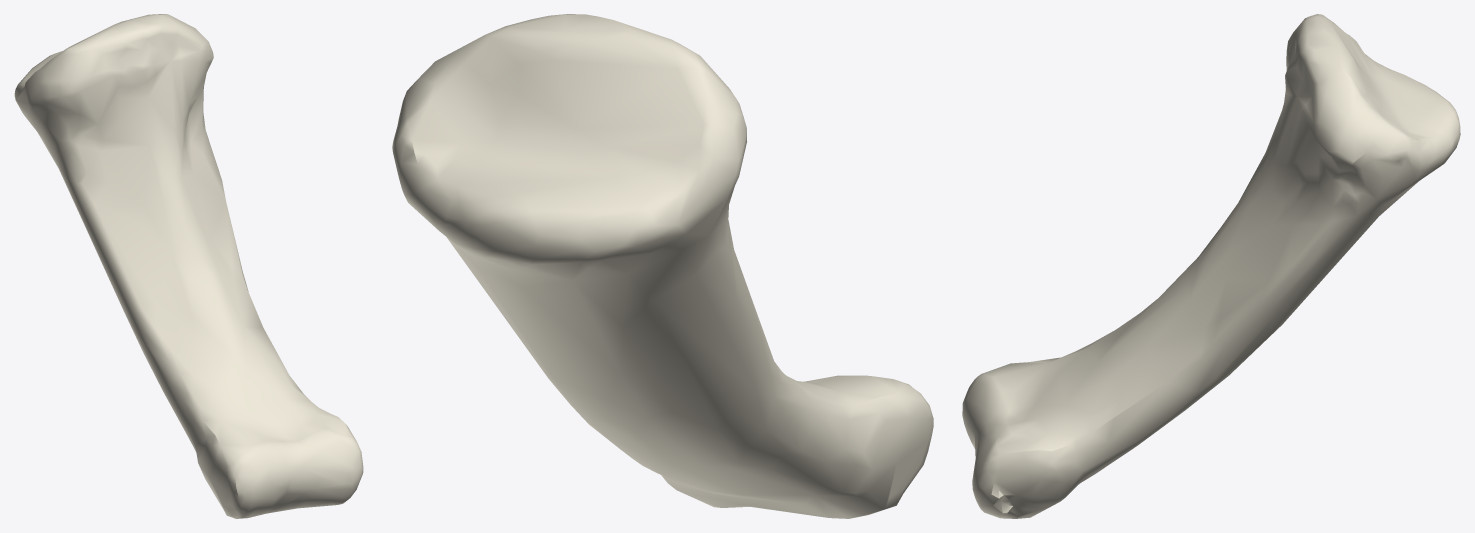
Rendered from fma23942.glb.
3 renders of one model, left to right at view 1: azimuth 30°, elevation 25°; view 2: azimuth 150°, elevation 25°; view 3: azimuth 270°, elevation 25°, orthographic. The views are drawn at different scales.
Visible parts, largest first — view 1: FMA23942; view 2: FMA23942; view 3: FMA23942.
Boxes of the visible parts, x1,y1,x2,y2 form: FMA23942: (14,14,363,518); FMA23942: (392,14,933,518); FMA23942: (962,14,1460,518).
Bounding box in the file's own units: 0.0121 × 0.0241 × 0.0243.
